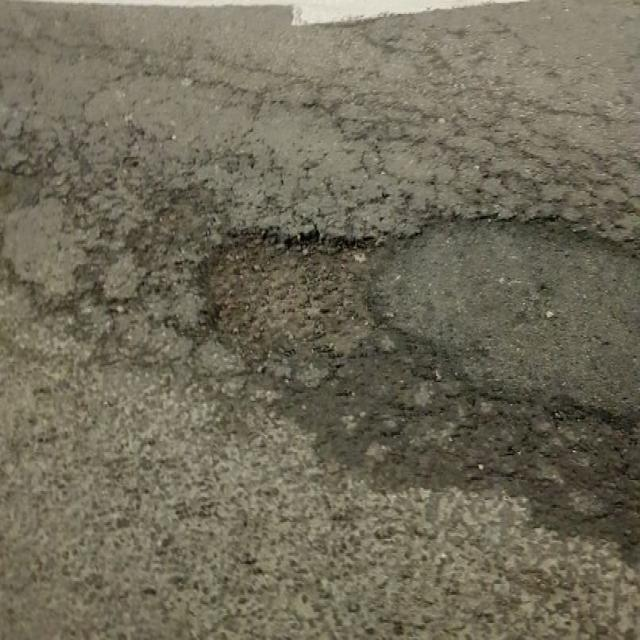pothole: (202, 206, 386, 376)
